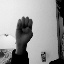e: (14, 15, 34, 42)
